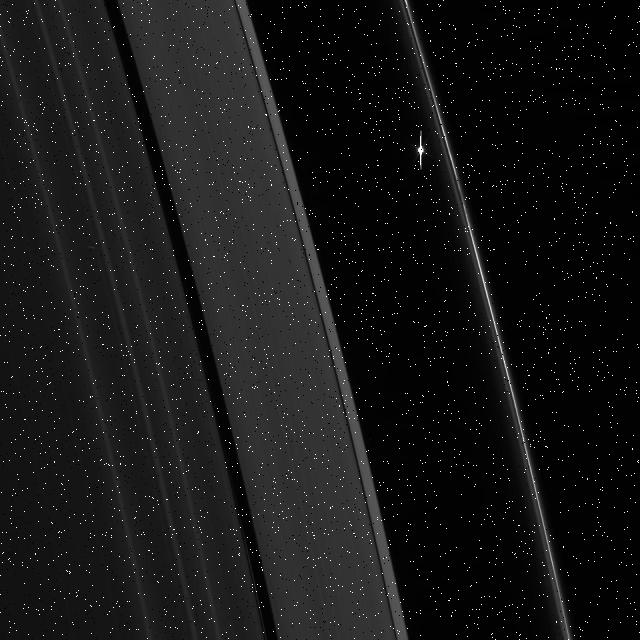Saturn: (1, 0, 576, 640)
